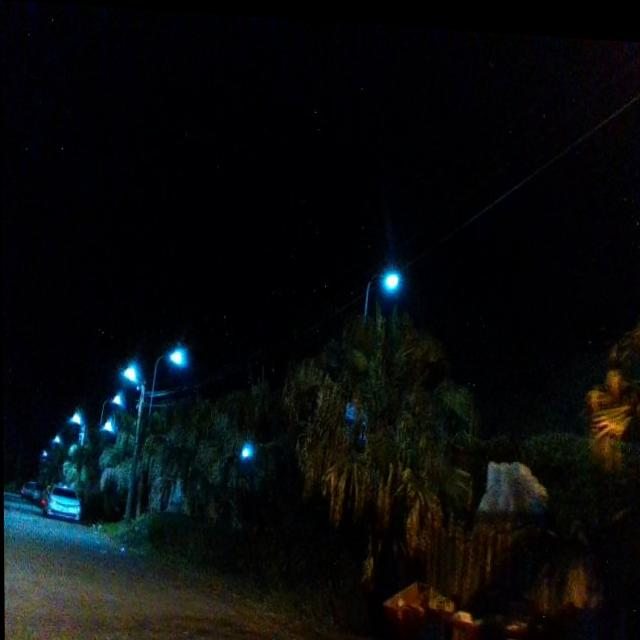pollute: (374, 450, 606, 640)
